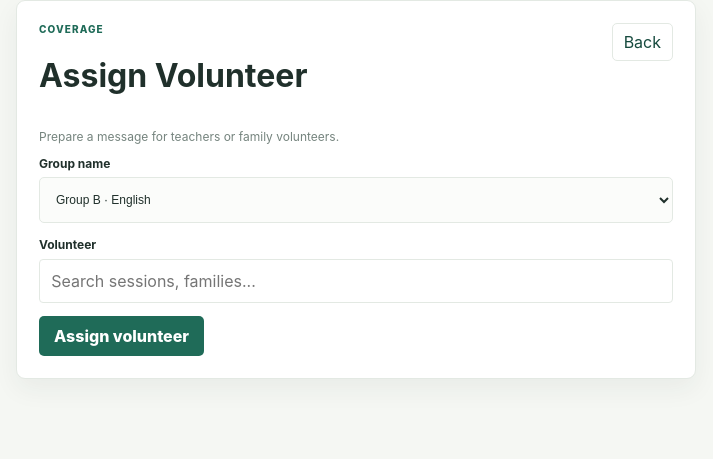
Test case: confirms a volunteer assignment action
Type "Maria Gonzalez" into the field labelled "Volunteer" at (356, 281), box [39,259,673,303]
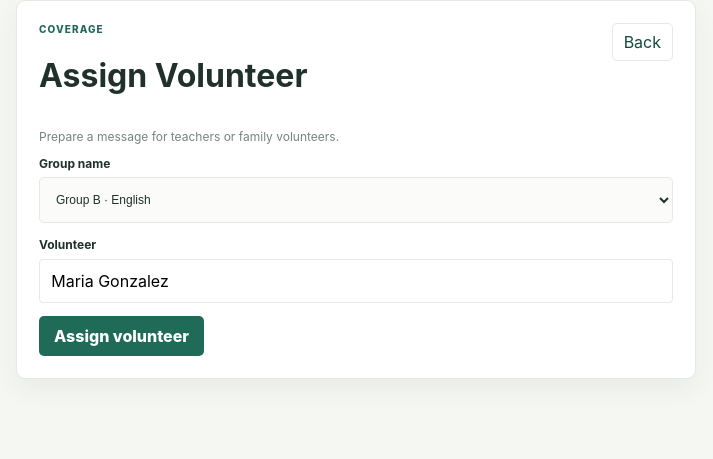
Click the button "Assign volunteer" at (122, 336), box [39,316,204,356]
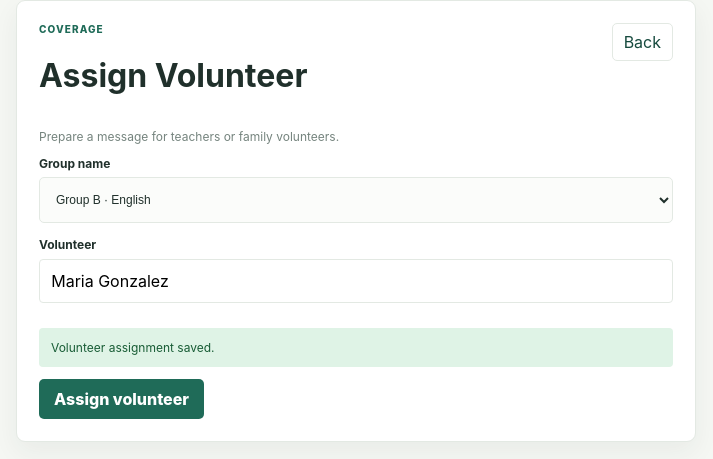
expect the text "Volunteer assignment saved." is shown: met, box [39,328,673,367]
